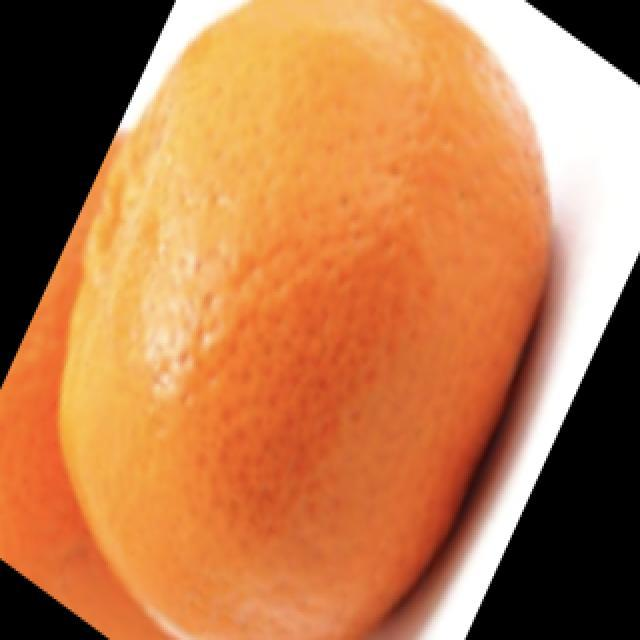Orange: (55, 0, 553, 639)
